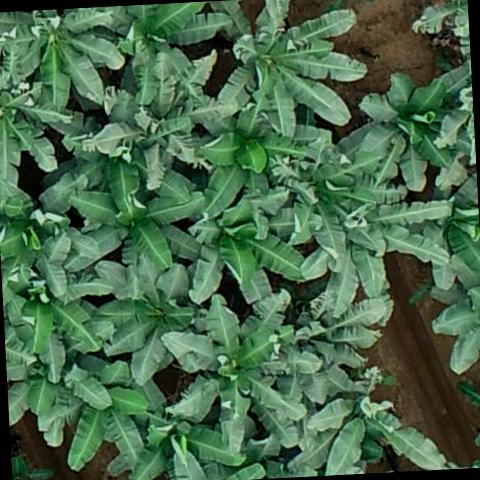Banana-plant: (160, 290, 322, 434), (298, 190, 458, 320), (90, 50, 238, 183), (233, 0, 370, 136), (67, 153, 213, 277), (272, 131, 408, 256), (186, 184, 306, 314), (93, 256, 205, 386), (4, 325, 118, 447), (311, 374, 446, 476), (358, 70, 468, 195), (0, 6, 124, 109), (114, 1, 230, 104), (64, 360, 157, 480), (200, 114, 308, 216), (0, 178, 83, 295), (128, 411, 247, 480), (0, 70, 75, 173), (427, 252, 480, 373), (430, 174, 480, 276)
